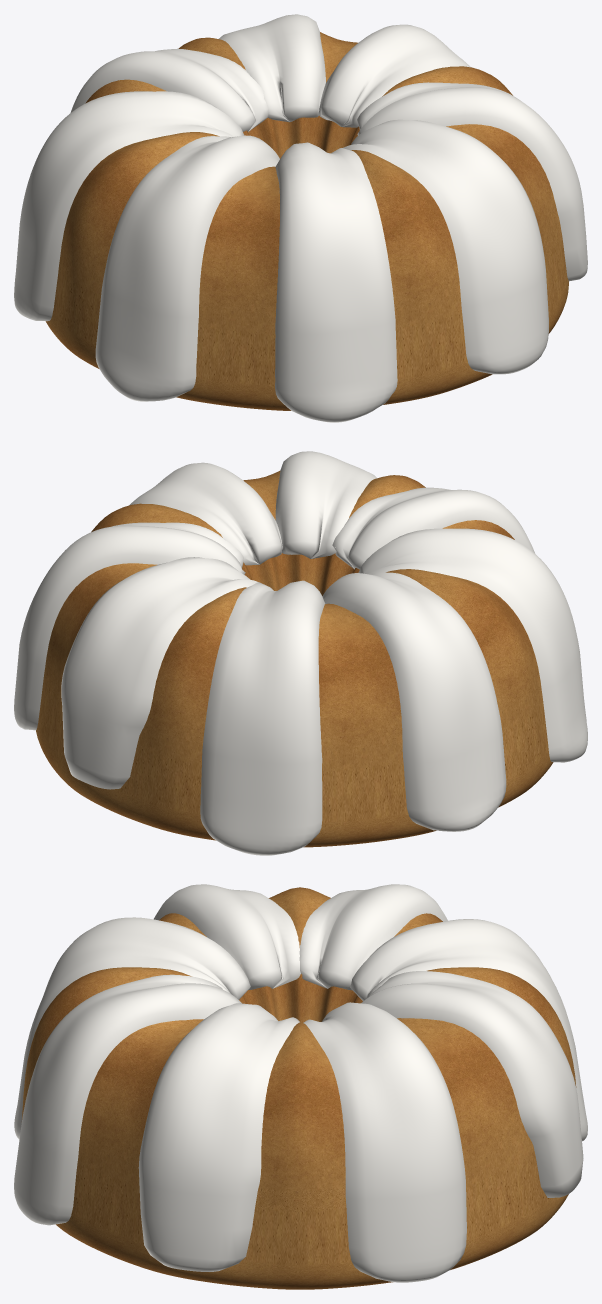
The model's file is bundt_vanilla_10.glb.
3 renders of one model, top to bottom at view 1: azimuth 30°, elevation 25°; view 2: azimuth 150°, elevation 25°; view 3: azimuth 270°, elevation 25°, orthographic. The views are drawn at different scales.
Visible parts, largest first — view 1: cake.001, frosting.005, frosting.004, frosting.006, frosting.003, frosting.007, frosting.001, frosting, frosting.002; view 2: cake.001, frosting.002, frosting.003, frosting.001, frosting.004, frosting, frosting.005, frosting.006, frosting.007; view 3: cake.001, frosting, frosting.007, frosting.006, frosting.001, frosting.005, frosting.002, frosting.003, frosting.004.
Boxes of the visible parts, x1=… form: cake.001: x1=45, y1=32, x2=568, y2=410; frosting.005: x1=275, y1=142, x2=397, y2=422; frosting.004: x1=95, y1=135, x2=279, y2=401; frosting.006: x1=343, y1=119, x2=548, y2=374; frosting.003: x1=14, y1=91, x2=244, y2=321; frosting.007: x1=357, y1=82, x2=587, y2=281; frosting.001: x1=219, y1=14, x2=325, y2=122; frosting: x1=318, y1=24, x2=470, y2=127; frosting.002: x1=70, y1=48, x2=269, y2=131; cake.001: x1=36, y1=471, x2=553, y2=847; frosting.002: x1=200, y1=580, x2=325, y2=855; frosting.003: x1=322, y1=572, x2=506, y2=831; frosting.001: x1=61, y1=557, x2=258, y2=789; frosting.004: x1=358, y1=528, x2=587, y2=762; frosting: x1=14, y1=522, x2=245, y2=730; frosting.005: x1=332, y1=487, x2=534, y2=569; frosting.006: x1=275, y1=451, x2=377, y2=558; frosting.007: x1=129, y1=462, x2=282, y2=565; cake.001: x1=22, y1=887, x2=576, y2=1289; frosting: x1=303, y1=1002, x2=466, y2=1282; frosting.007: x1=138, y1=1003, x2=299, y2=1271; frosting.006: x1=14, y1=974, x2=241, y2=1225; frosting.001: x1=361, y1=971, x2=583, y2=1197; frosting.005: x1=14, y1=917, x2=250, y2=1139; frosting.002: x1=350, y1=919, x2=587, y2=1141; frosting.003: x1=299, y1=884, x2=447, y2=990; frosting.004: x1=154, y1=884, x2=300, y2=989.
Bounding box in the file's own units: 0.2652 × 0.1158 × 0.2677.
Materials: 2 (1 with a texture image).
